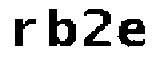2: (80, 5, 114, 51)
b: (44, 6, 78, 50)
e: (118, 17, 148, 50)
r: (10, 15, 40, 50)
